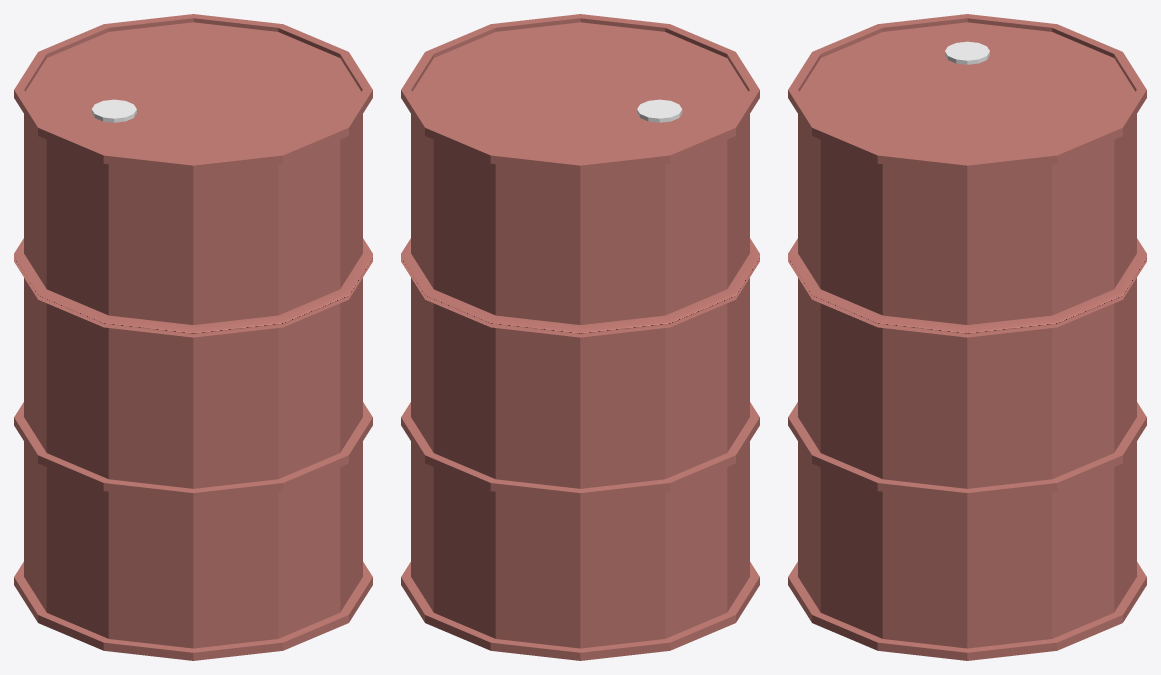
Rendered from OilBarrel.glb.
3 views of the same model, side by side, from view 1: azimuth 30°, elevation 25°; view 2: azimuth 150°, elevation 25°; view 3: azimuth 270°, elevation 25° (orthographic).
Parts seen in each view (by area): view 1: OilBarrel; view 2: OilBarrel; view 3: OilBarrel.
Part boxes in pixels (x1,y1,x2,y2): OilBarrel: (14, 14, 372, 660); OilBarrel: (401, 14, 759, 660); OilBarrel: (788, 14, 1146, 660).
Size of what is drawn, in the model's own units: 1.59 by 2.42 by 1.59.
